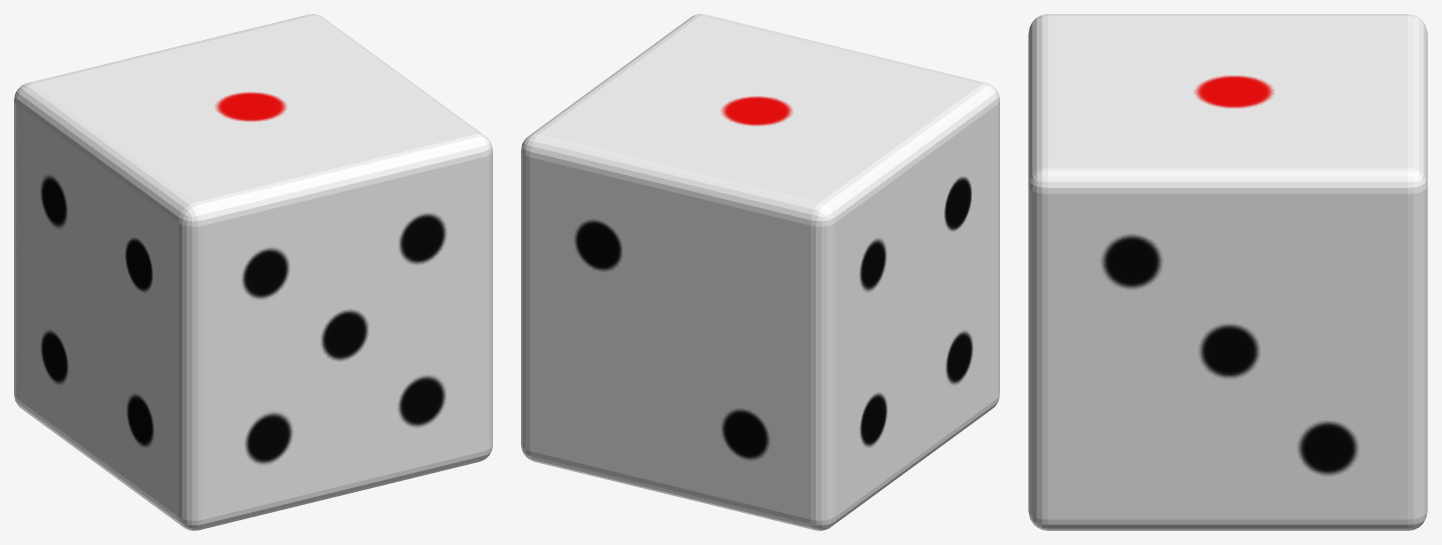
Rendered from DiceBone.fbx.
3 renders of one model, left to right at view 1: azimuth 30°, elevation 25°; view 2: azimuth 150°, elevation 25°; view 3: azimuth 270°, elevation 25°, orthographic. The views are drawn at different scales.
Parts seen in each view (by area): view 1: dice; view 2: dice; view 3: dice.
Part boxes in pixels (box(x1,y1,x2,y2)): dice: box(14, 14, 492, 530); dice: box(521, 14, 999, 530); dice: box(1028, 14, 1427, 530).
Size of the model in its own units: 200 by 200 by 200.
Materials: 1 (1 with a texture image).
